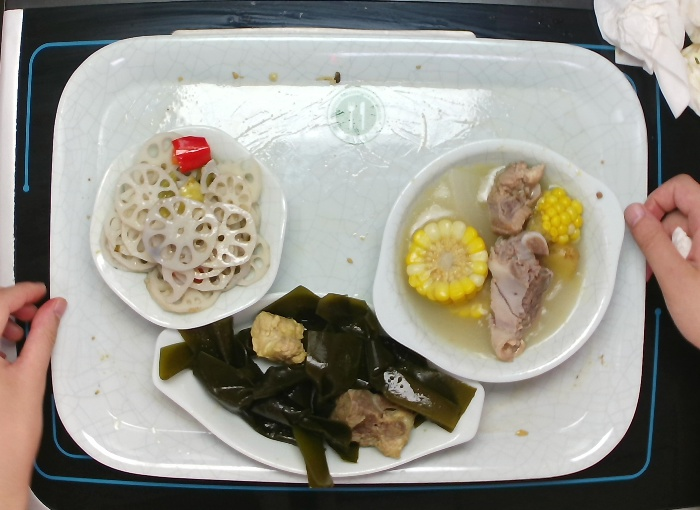JYsf-Shuang_Er_Wan: (366, 136, 628, 388)
JYsf-Yu_Pan: (150, 281, 486, 477)
WCQzf-Hua_Duo_Wan: (88, 123, 288, 332)
